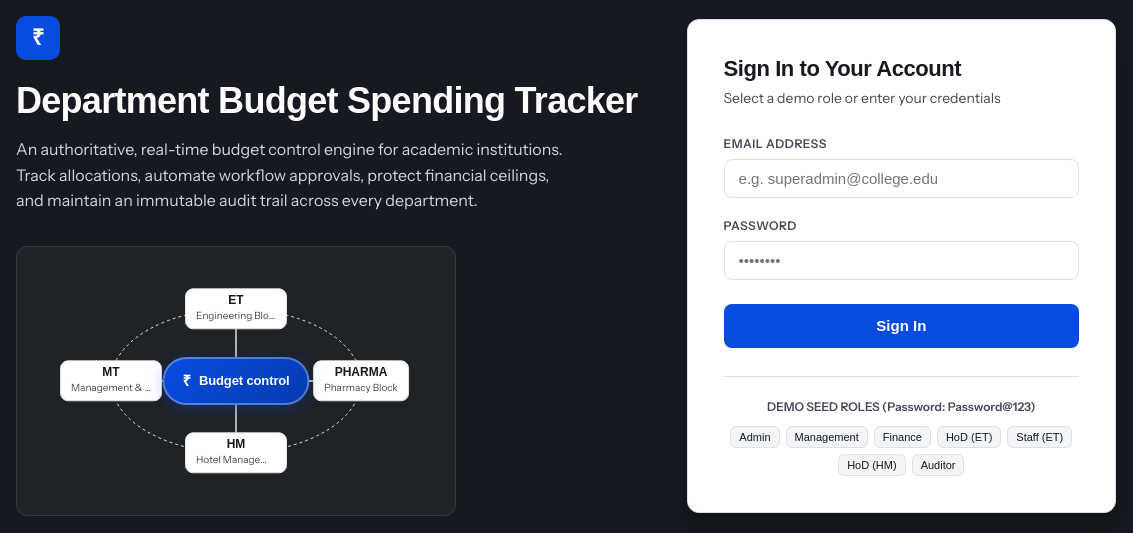
Test: LoginPage Component › populates fields when a demo role button is clicked
Click the button "Admin". click: (755, 437)
box: [730,426,780,448]
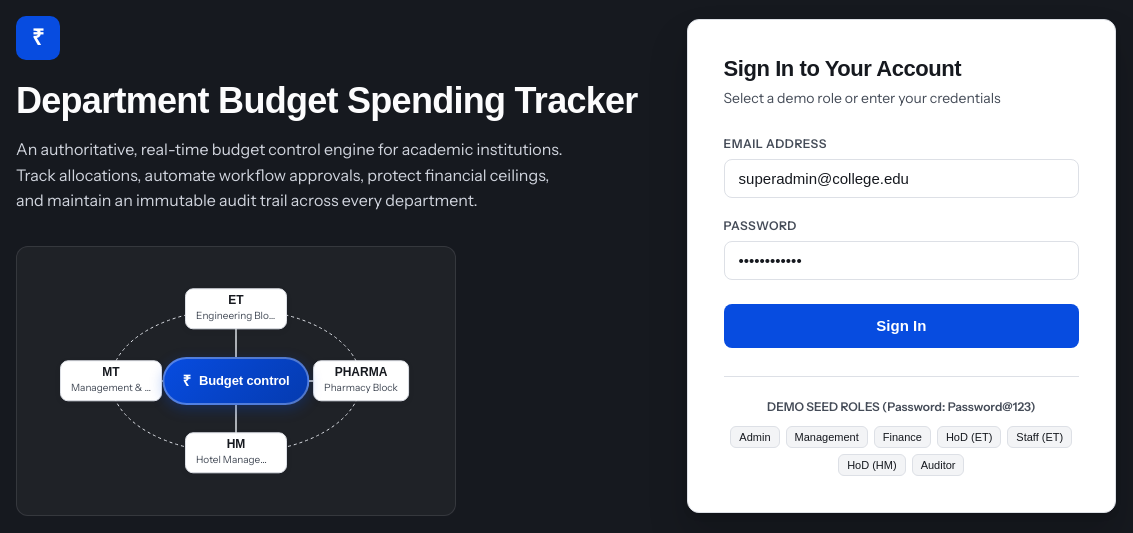
expect the field labelled "Email Address" holds "superadmin@college.edu": met, box [724,159,1079,198]
expect the password field labelled "Password" holds "Password@123": met, box [724,241,1079,280]
